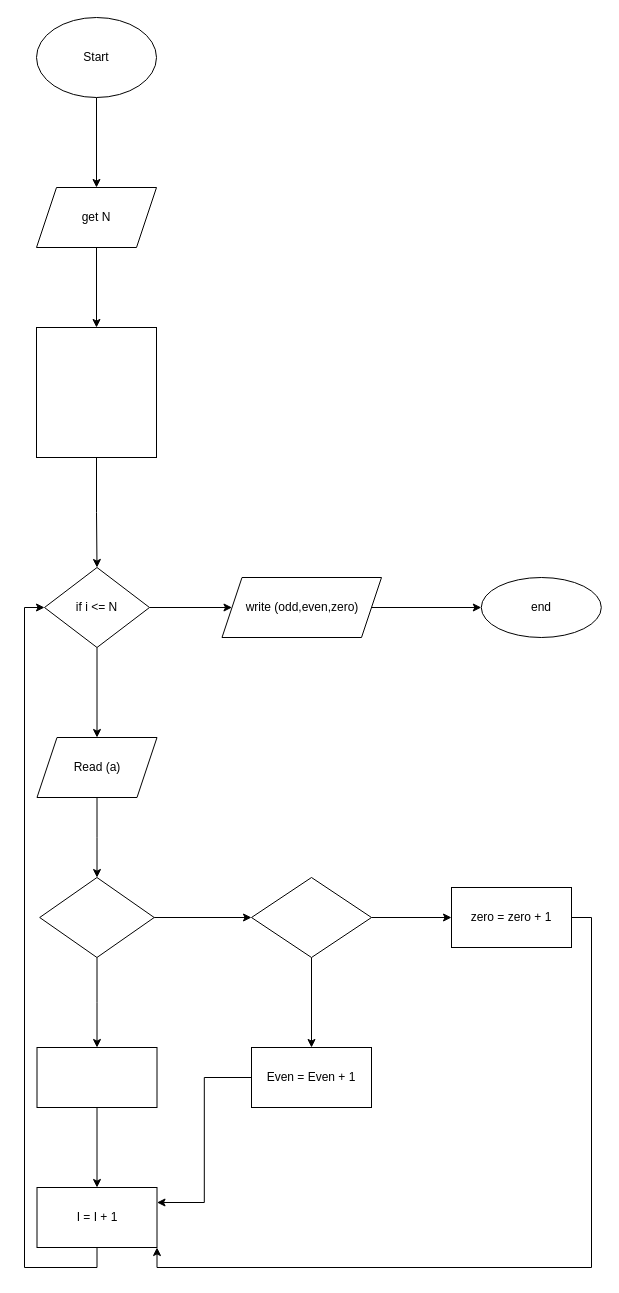
The diagram is 619 pixels wide and 1293 high, and some of its shapes have lost their labels. The centre of each missing label's shape, as x and y in pixels:
"I = 1 Odd = 0 Even = 0 zero = 0" goes at [96,392].
"If a < 0" goes at [96,917].
"If a > 0" goes at [311,917].
"Odd = Odd + 1" goes at [96,1077].
